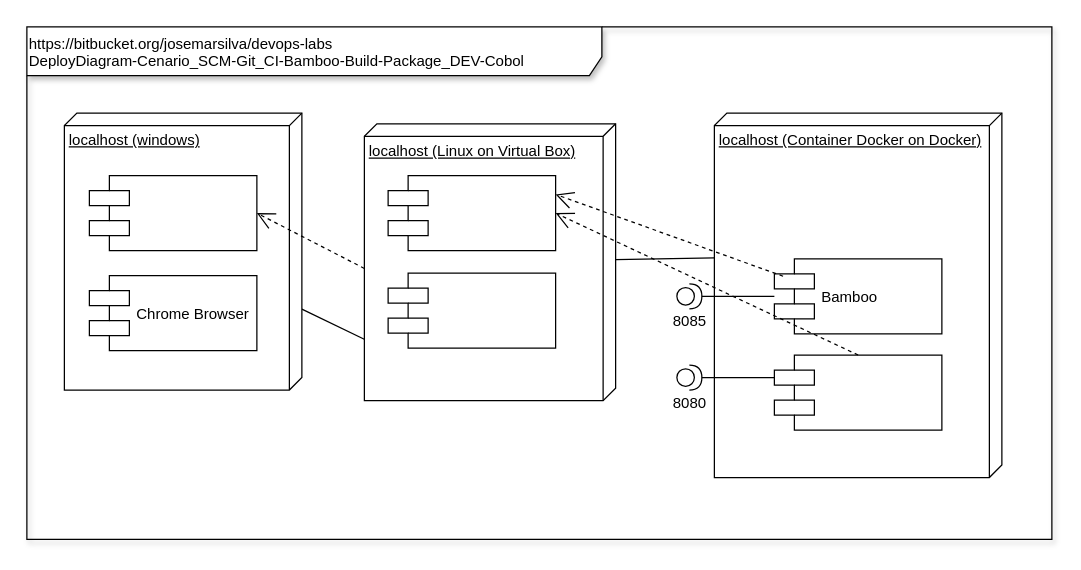
Image size: 1081x570. Some labels were removed from this diagram. The centre of each missing label's shape, as x and y in pixels:
Cobol Compiler: the point at 471,310
Docker: the point at 471,212
Jira Core: the point at 857,392
Virtual Box: the point at 172,212
